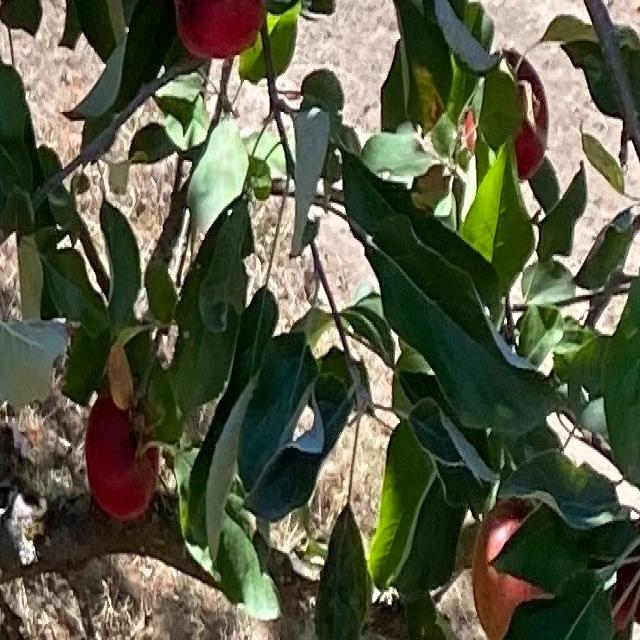100-_ripeness: (473, 499, 553, 640), (466, 48, 549, 180), (87, 391, 158, 521), (177, 0, 263, 53), (609, 551, 640, 631)
